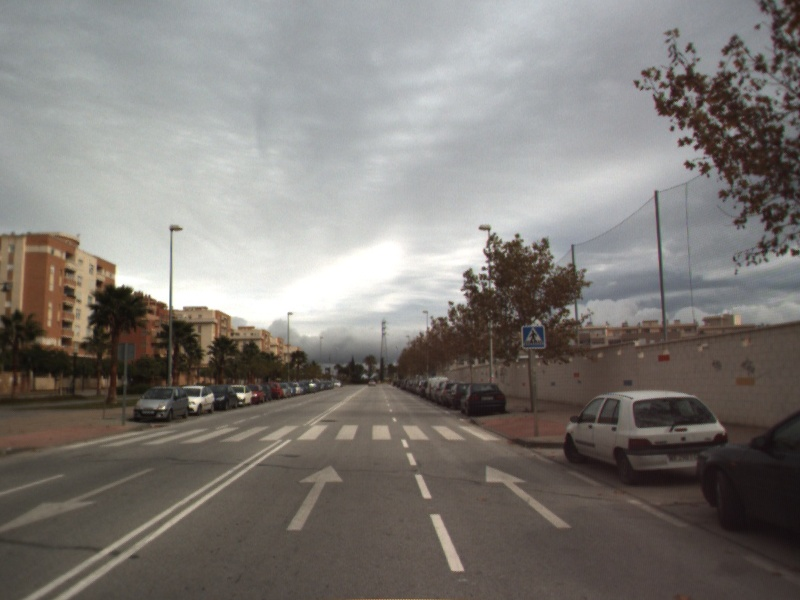STRAIGHT: (483, 463, 574, 530), (284, 462, 345, 532)
